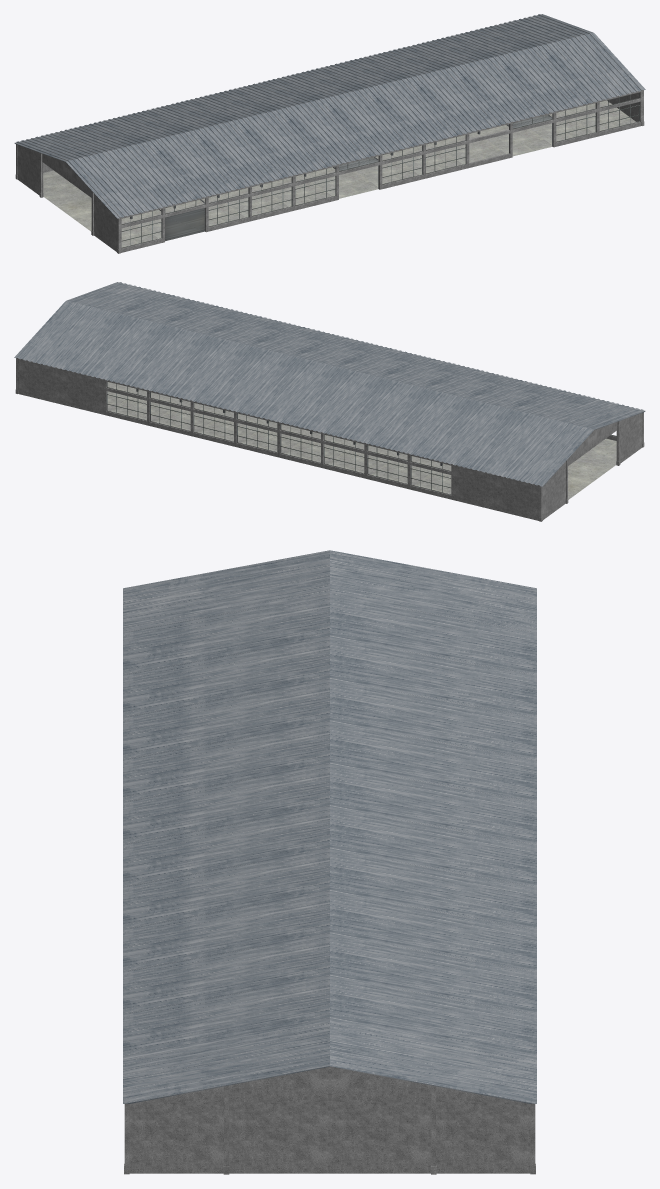
File: Almacen.obj
The picture shows the model from 3 angles, top to bottom: view 1: azimuth 30°, elevation 25°; view 2: azimuth 150°, elevation 25°; view 3: azimuth 270°, elevation 25°; orthographic projection. The views are drawn at different scales.
Visible parts, largest first — view 1: AlmacenTecho, Almacen; view 2: AlmacenTecho, Almacen; view 3: AlmacenTecho, Almacen.
Boxes of the visible parts, left/top/right/bottom form: AlmacenTecho: left=14, top=14, right=645, bottom=218; Almacen: left=15, top=35, right=644, bottom=253; AlmacenTecho: left=14, top=282, right=645, bottom=486; Almacen: left=15, top=303, right=644, bottom=521; AlmacenTecho: left=123, top=550, right=536, bottom=1103; Almacen: left=123, top=595, right=536, bottom=1174.
Bounding box in the file's own units: 869 × 87 × 295.
Materials: 6 (6 with a texture image).
